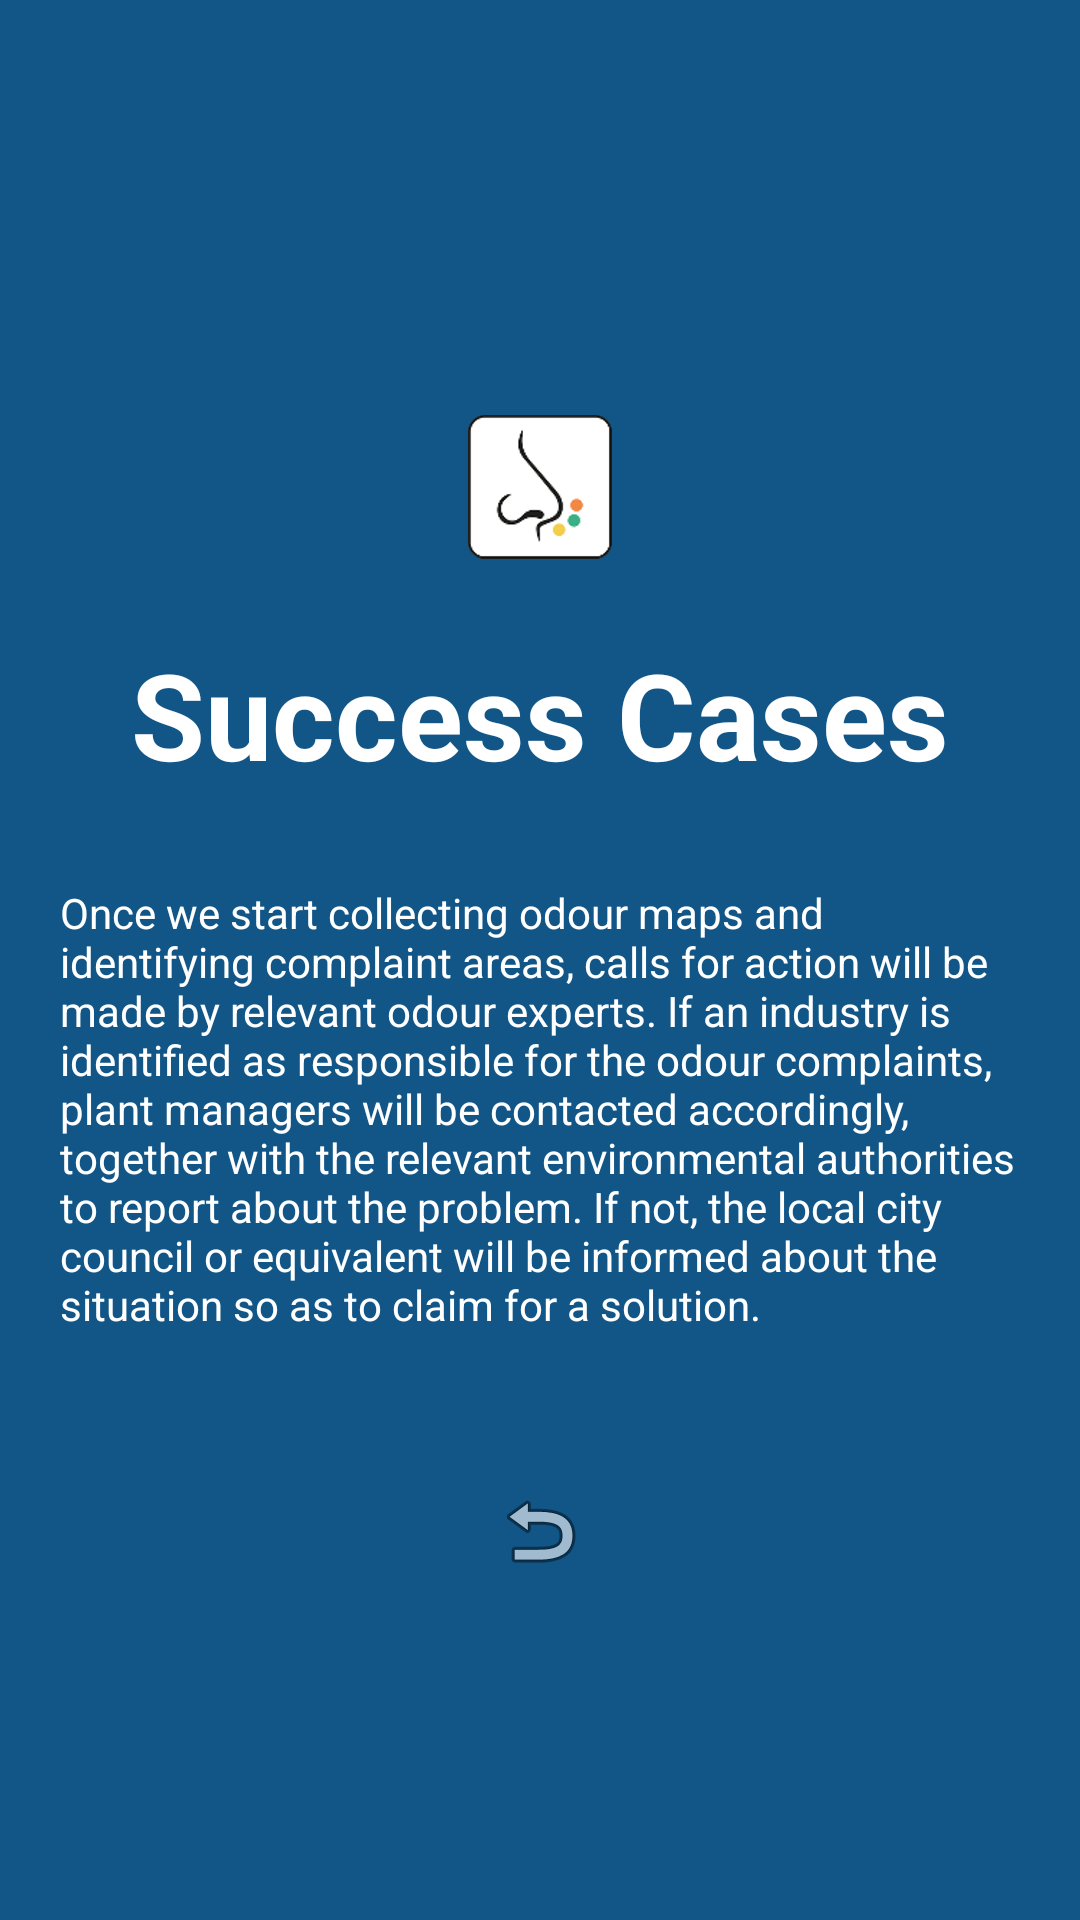

Icon click points for this 1080×1920 phone screenshot, format (x,y):
revert: (541,1532)
